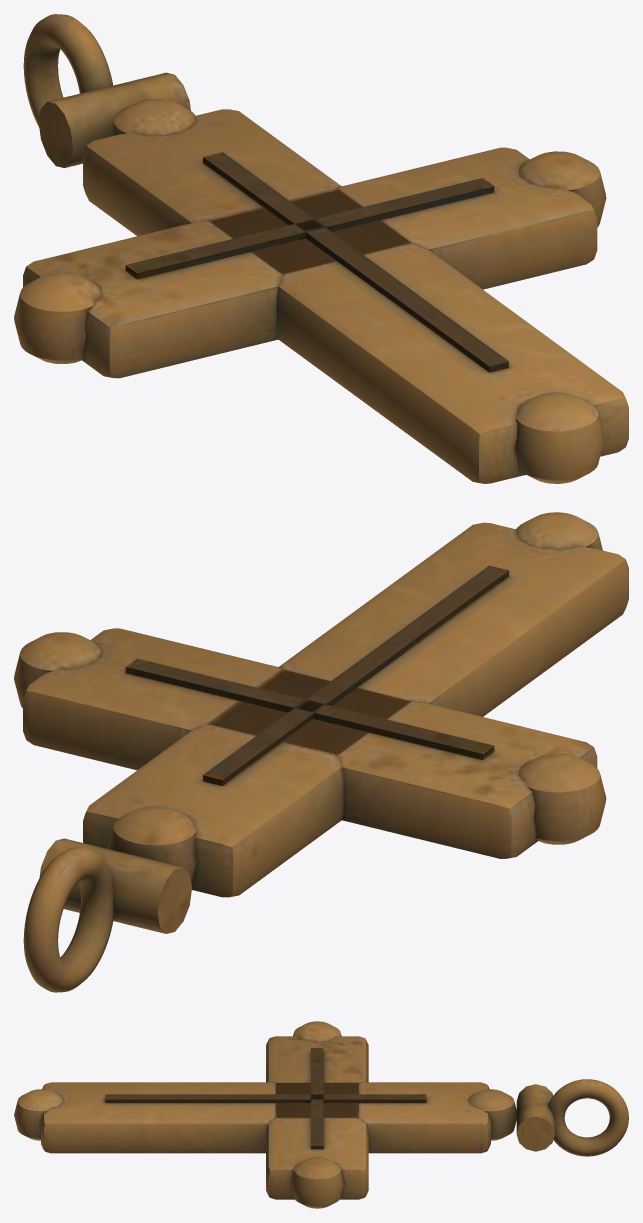
Rendered from enkolpion.glb.
3 views of the same model, one above another, from view 1: azimuth 30°, elevation 25°; view 2: azimuth 150°, elevation 25°; view 3: azimuth 270°, elevation 25° (orthographic). The views are drawn at different scales.
Parts seen in each view (by area): view 1: enkolpion; view 2: enkolpion; view 3: enkolpion.
Boxes of the visible parts, x1,y1,x2,y2 form: enkolpion: [14, 14, 628, 483]; enkolpion: [14, 512, 628, 992]; enkolpion: [14, 1021, 628, 1208].
Size of the model in its own units: 0.0584 by 0.013 by 0.0957.
Materials: 1 (1 with a texture image).
